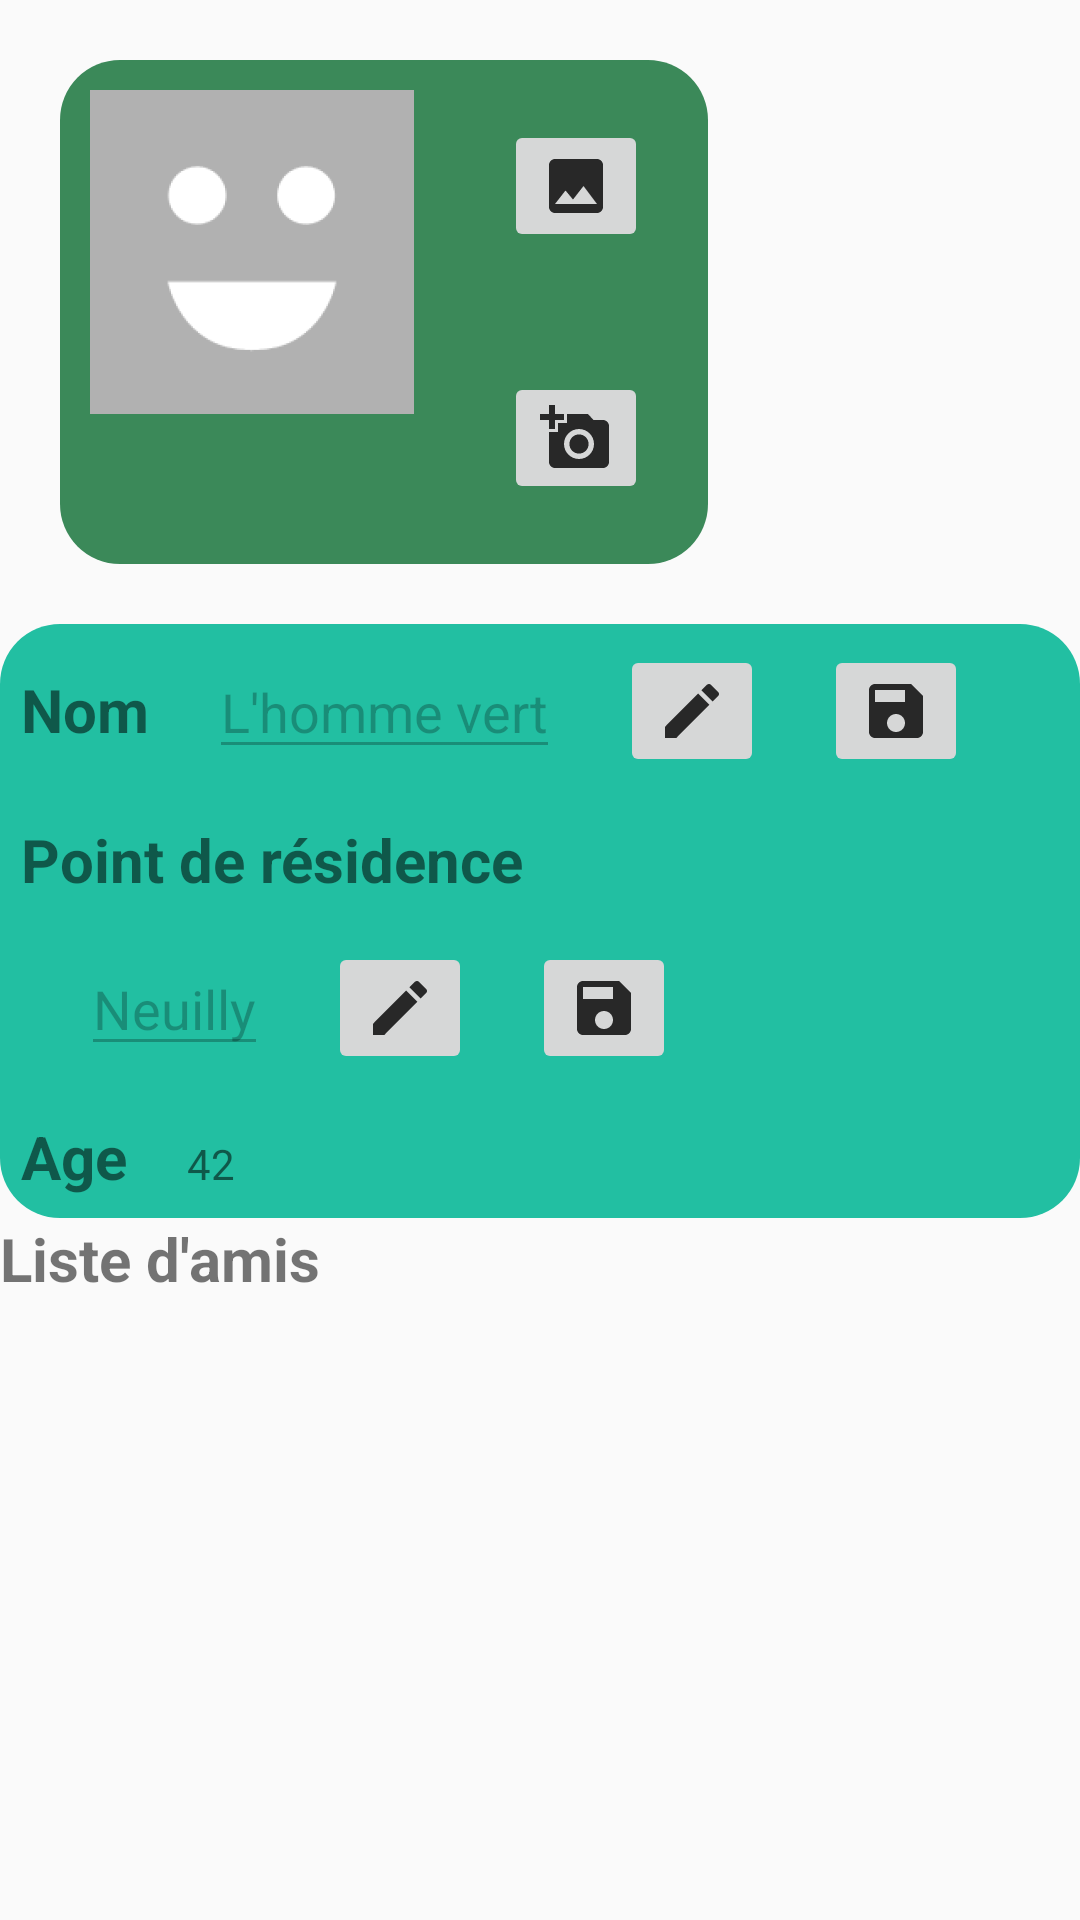

Icons on this 1080 x 1920 Android screen, each with its box as box=[x1, y1, x2, y2]:
edit: box=[632, 663, 752, 759], box=[340, 960, 460, 1056]
profile: box=[90, 90, 414, 414]
save: box=[836, 663, 956, 759], box=[544, 960, 664, 1056]
